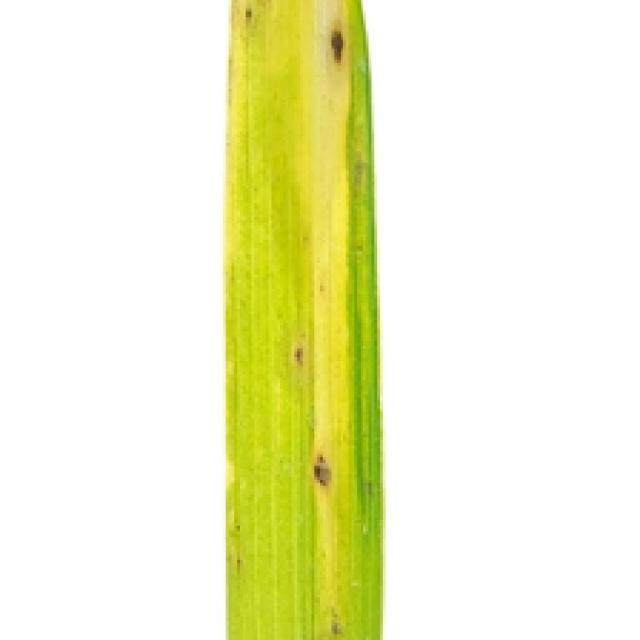Rice___Rice_Blast: (222, 0, 387, 637)
